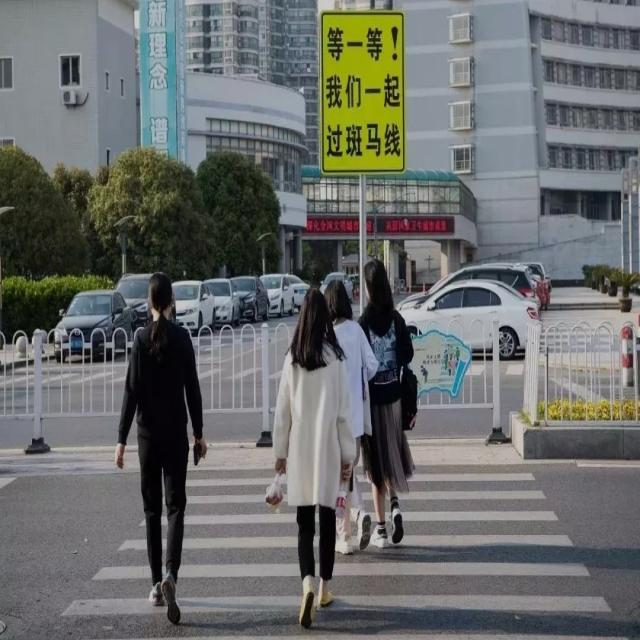non-fight: (118, 268, 205, 624), (269, 285, 356, 632), (355, 258, 419, 545)
